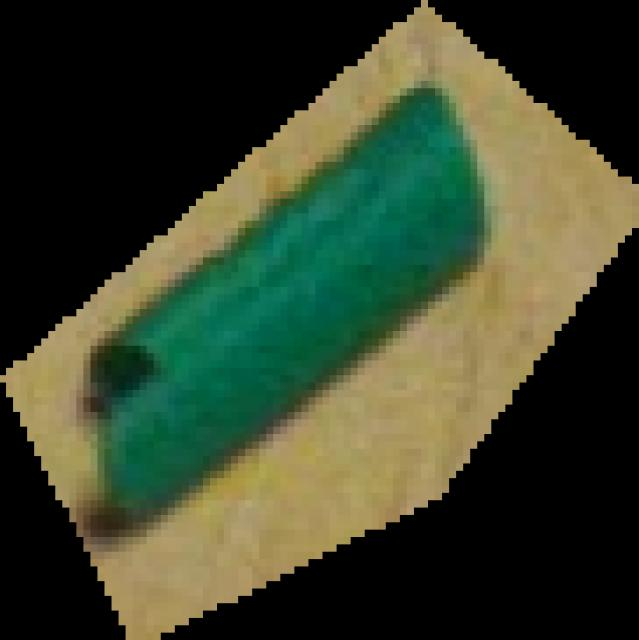green: (1, 1, 639, 640)
